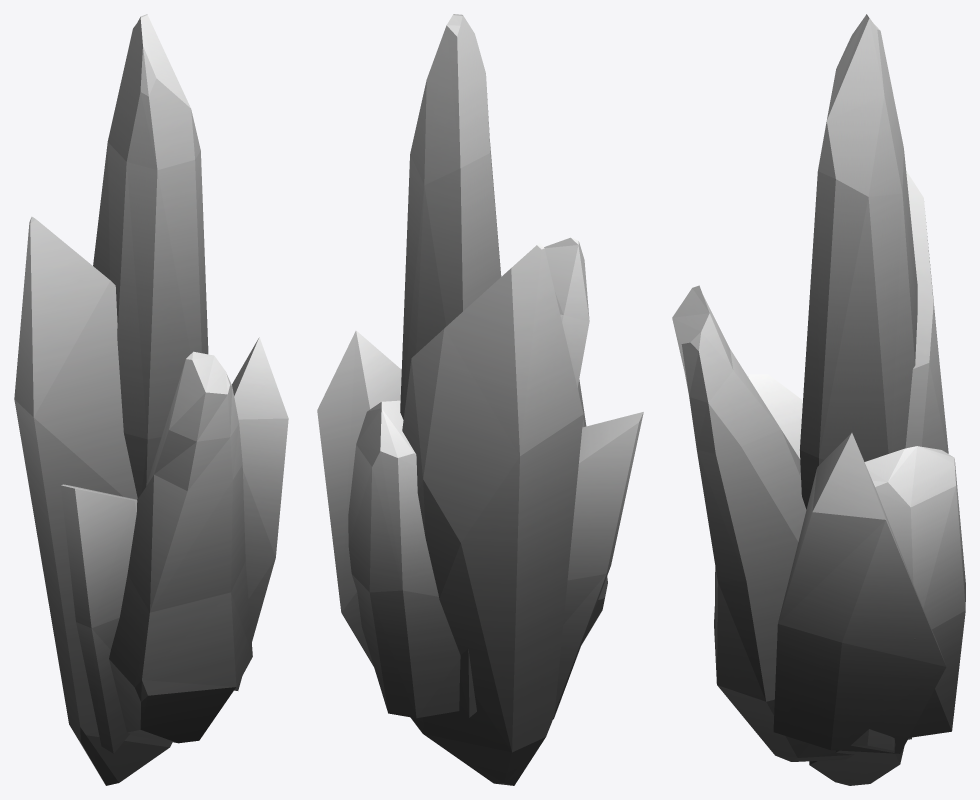
The model's file is CrystalShardCluster_D.fbx.
3 views of the same model, side by side, from view 1: azimuth 30°, elevation 25°; view 2: azimuth 150°, elevation 25°; view 3: azimuth 270°, elevation 25° (orthographic). The views are drawn at different scales.
Visible parts, largest first — view 1: CrystalShardCluster_D; view 2: CrystalShardCluster_D; view 3: CrystalShardCluster_D.
Part boxes in pixels (x1=…): CrystalShardCluster_D: x1=14, y1=14, x2=288, y2=785; CrystalShardCluster_D: x1=317, y1=14, x2=643, y2=785; CrystalShardCluster_D: x1=672, y1=14, x2=965, y2=785.
Size of the model in its own units: 172 by 476 by 160.
1 material, 1 textured.
